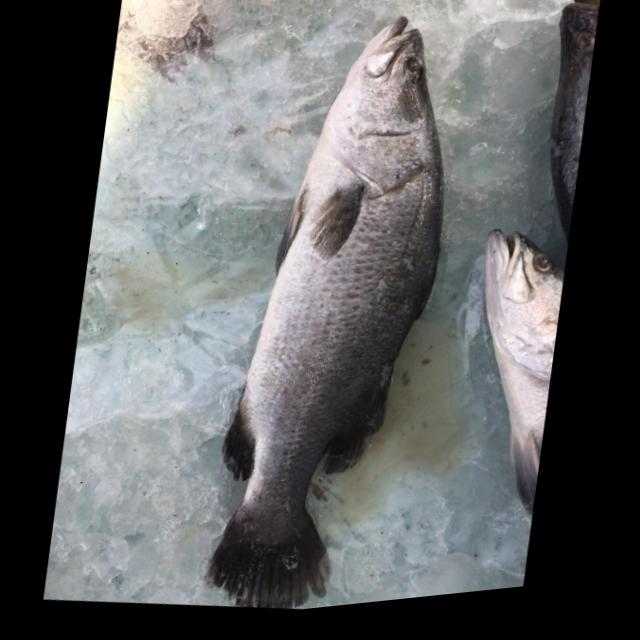Seabass: (196, 0, 477, 620)
